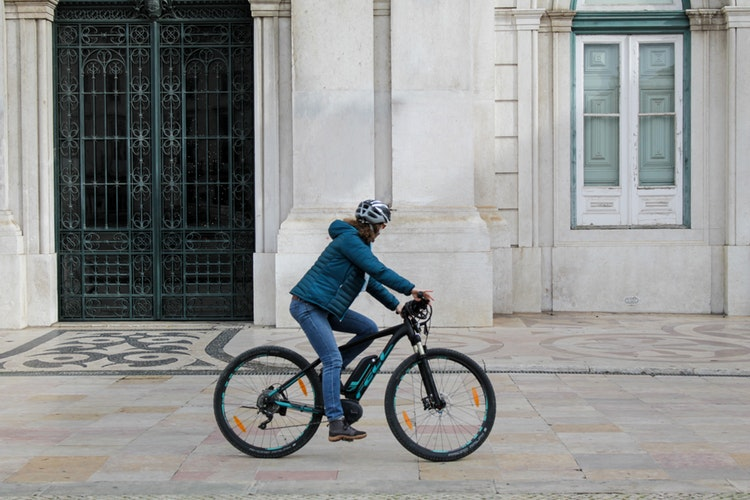helmet: (352, 194, 404, 226)
